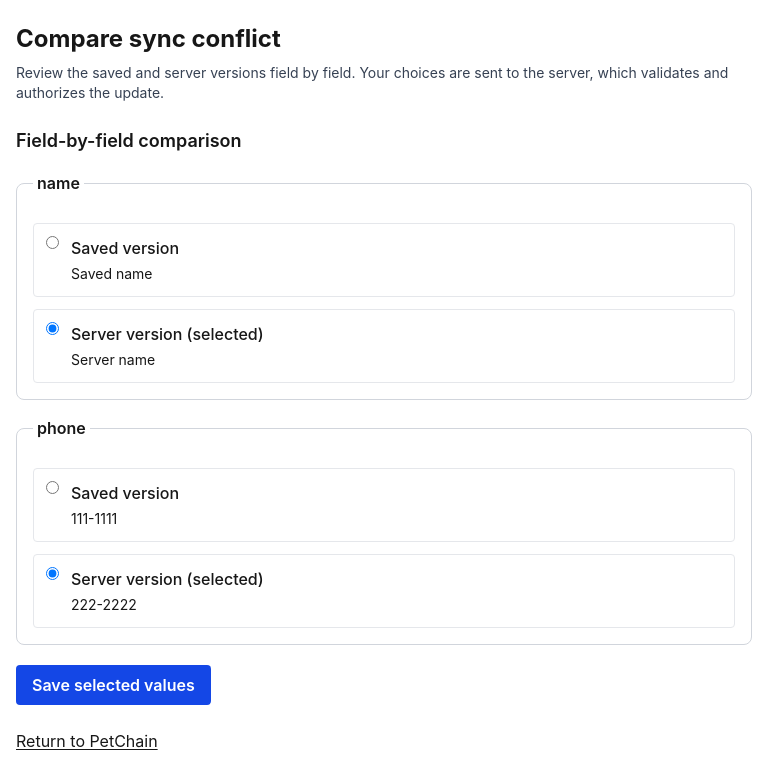
SyncConflictPage › reports a backend authorization denial and keeps the comparison available
The image size is (769, 759).
What coordinates should you click on to do the following:
click the button "Save selected values"
I would click on:
 (113, 685)
Its box is [16, 665, 211, 705].
(page scrolled)
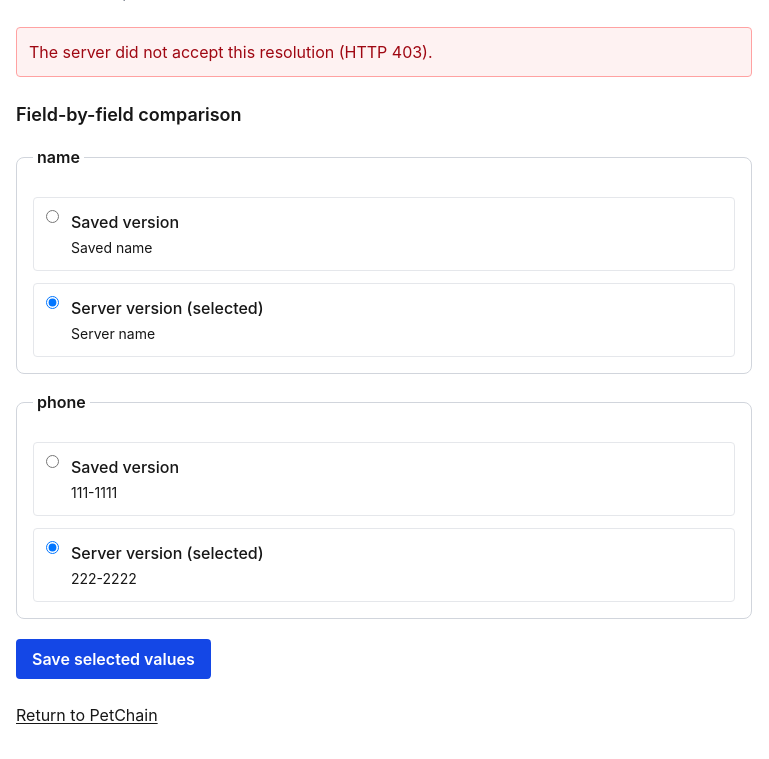
Expected: the text "Saved name" is shown, [71, 239, 152, 256]
Expected: the message shows "HTTP 403", [29, 42, 433, 62]
